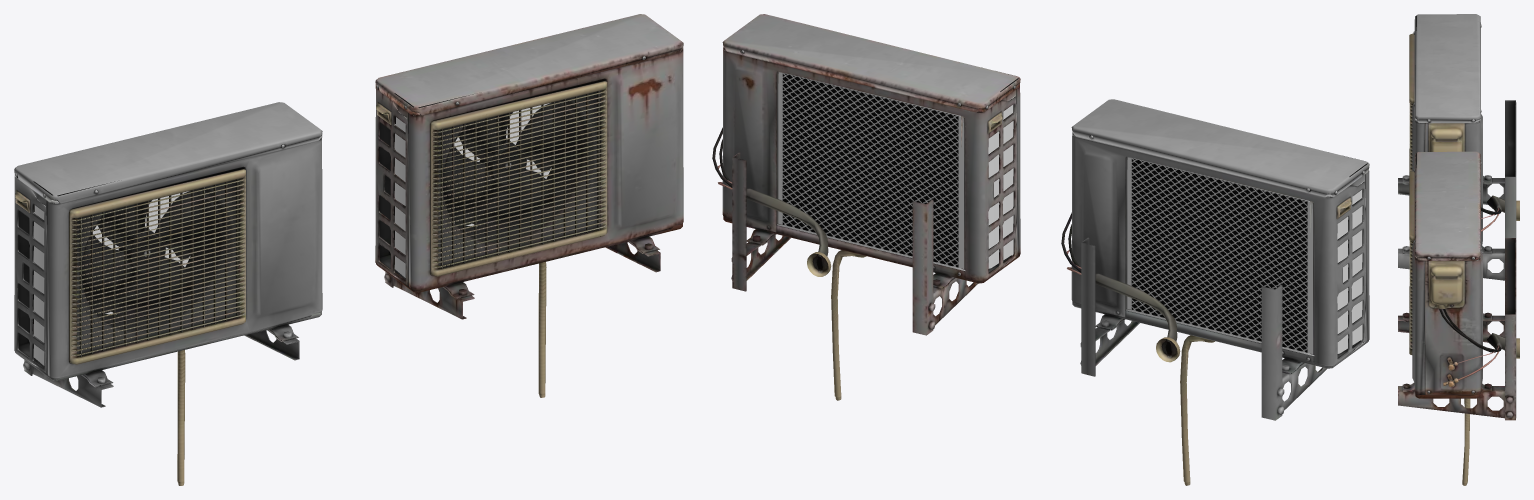
Rendered from exterior_aircon_unit.glb.
The picture shows the model from 3 angles, left to right: view 1: azimuth 30°, elevation 25°; view 2: azimuth 150°, elevation 25°; view 3: azimuth 270°, elevation 25°; orthographic projection. The views are drawn at different scales.
Visible parts, largest first — view 1: exterior_aircon_unit, exterior_aircon_unit_rusted; view 2: exterior_aircon_unit, exterior_aircon_unit_rusted; view 3: exterior_aircon_unit_rusted, exterior_aircon_unit.
Boxes of the visible parts, x1,y1,x2,y2 form: exterior_aircon_unit: (14, 102, 322, 485); exterior_aircon_unit_rusted: (375, 14, 683, 397); exterior_aircon_unit: (1061, 99, 1369, 485); exterior_aircon_unit_rusted: (712, 14, 1020, 400); exterior_aircon_unit_rusted: (1398, 151, 1519, 485); exterior_aircon_unit: (1398, 14, 1519, 280).
Size of the model in its own units: 1.8 by 0.9279 by 0.3742.
4 materials, 4 textured.
